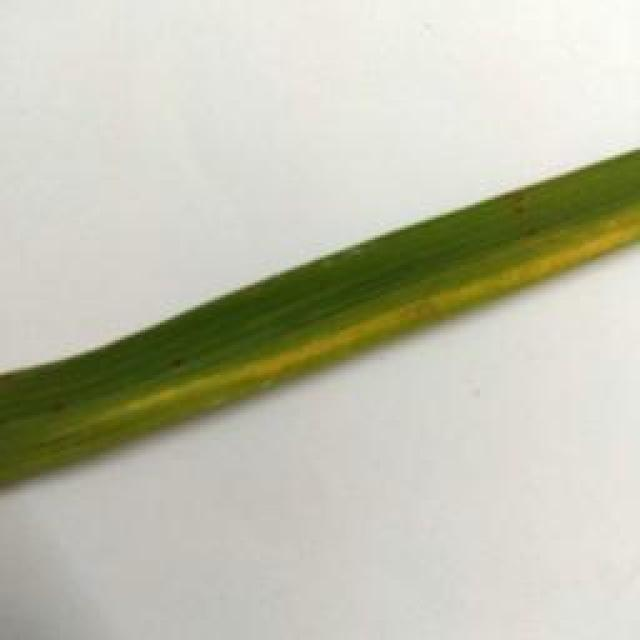Bacterial_Blight: (76, 197, 640, 438)
Brown_Spot: (499, 188, 537, 222), (43, 400, 81, 426), (156, 356, 193, 372), (522, 222, 547, 243)
